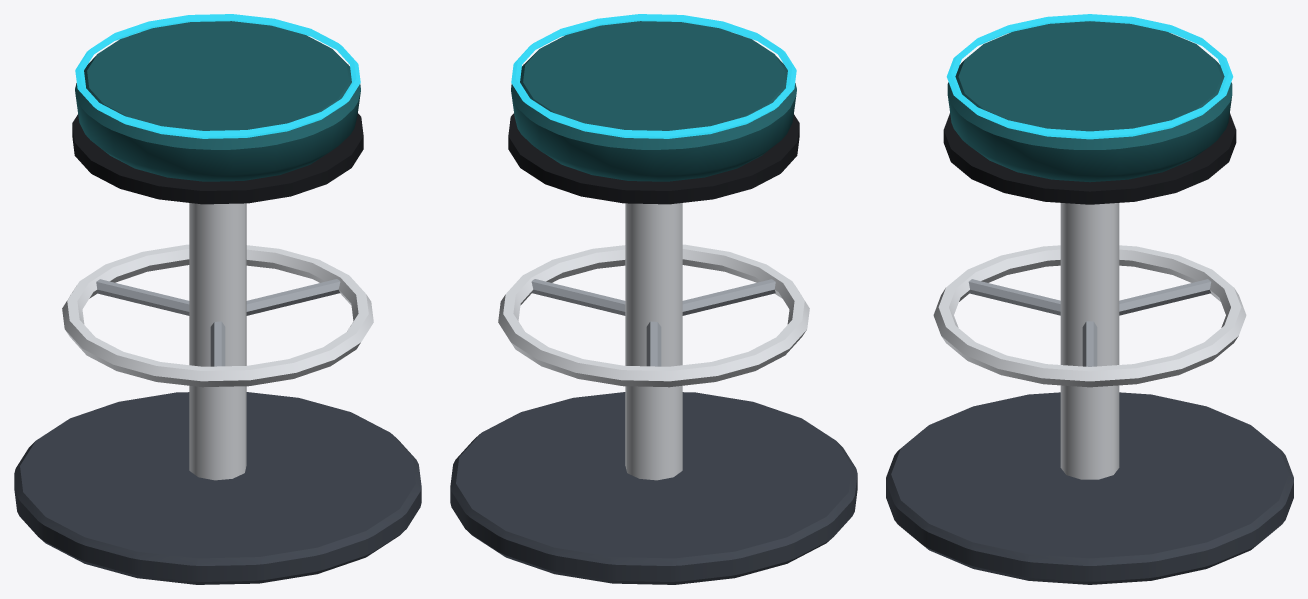
Rendered from seat_science_stool.glb.
3 renders of one model, left to right at view 1: azimuth 30°, elevation 25°; view 2: azimuth 150°, elevation 25°; view 3: azimuth 270°, elevation 25°, orthographic.
Visible parts, largest first — view 1: seat_science_stool; view 2: seat_science_stool; view 3: seat_science_stool.
Part boxes in pixels (x1=…): seat_science_stool: x1=14, y1=14, x2=421, y2=584; seat_science_stool: x1=450, y1=14, x2=857, y2=584; seat_science_stool: x1=886, y1=14, x2=1293, y2=584.
Bounding box in the file's own units: 0.5575 × 0.646 × 0.5575.
